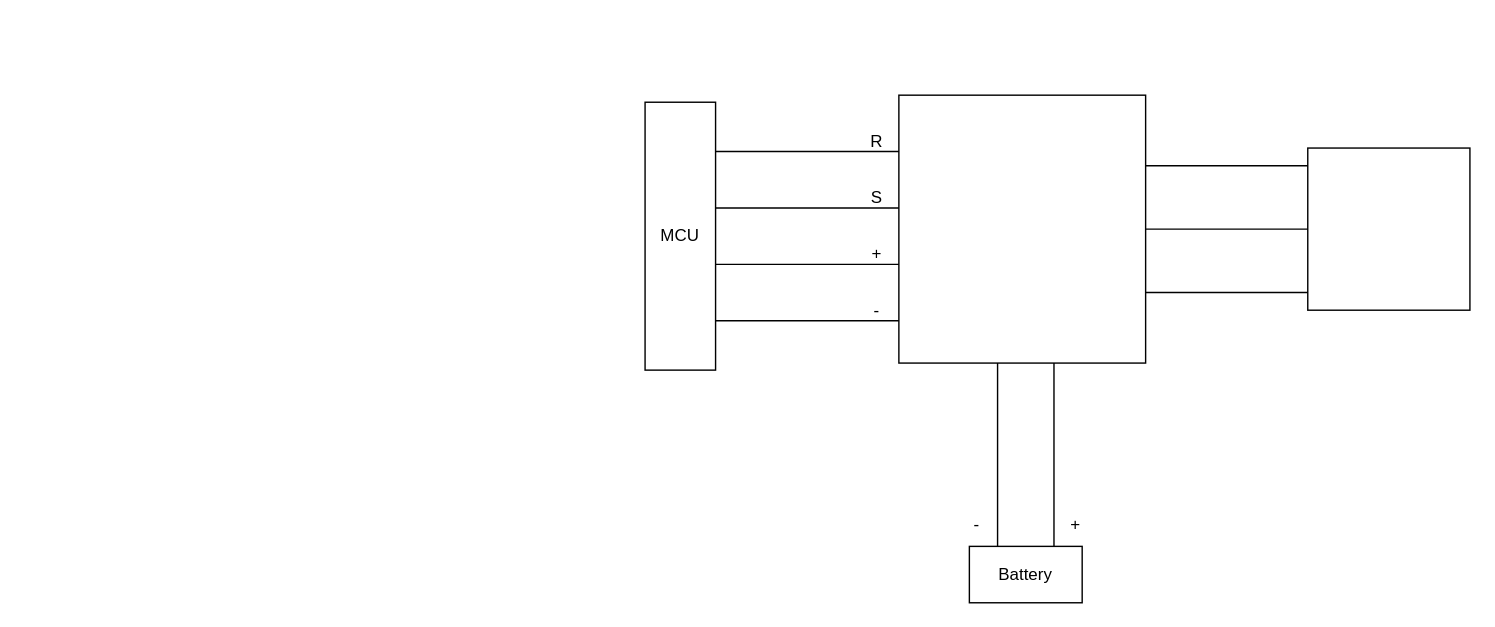
This 1495x627 diagram has some shape labels left out. The centre of each missing label's shape, as x and y in pixels:
"Aerostar 30 ESC" belongs at (x=1021, y=228).
"Motor" belongs at (x=1388, y=228).
